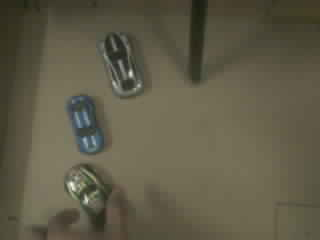Car: (98, 35, 143, 96), (64, 164, 111, 216), (67, 95, 103, 152)
